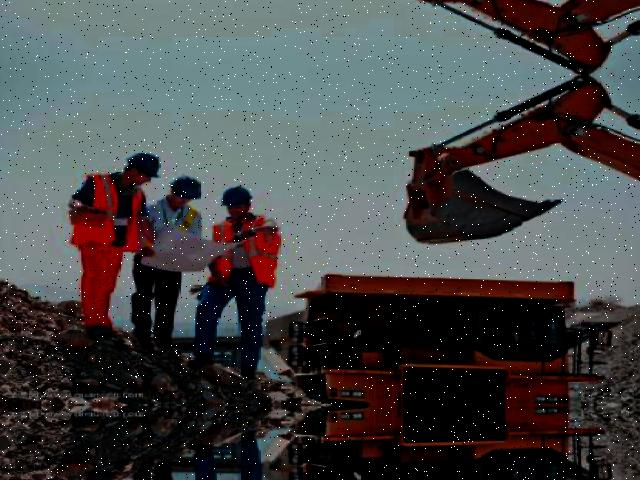Helmet: (122, 149, 160, 180), (215, 182, 251, 210), (168, 174, 204, 201)
